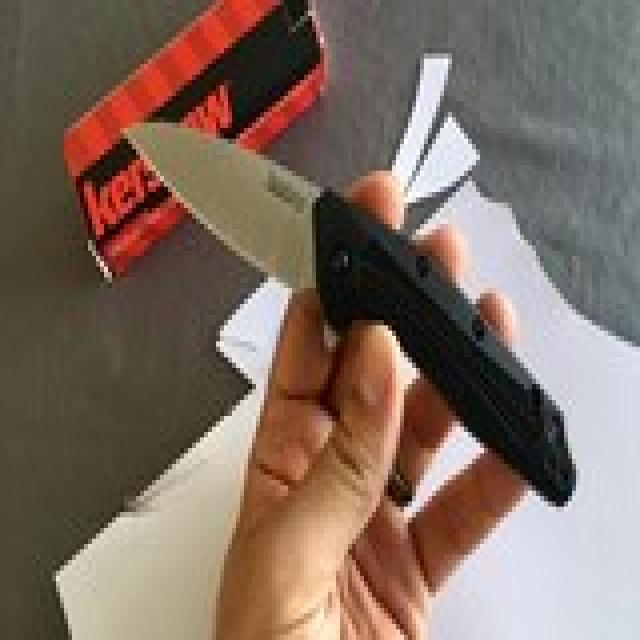Knife: (108, 95, 575, 492)
